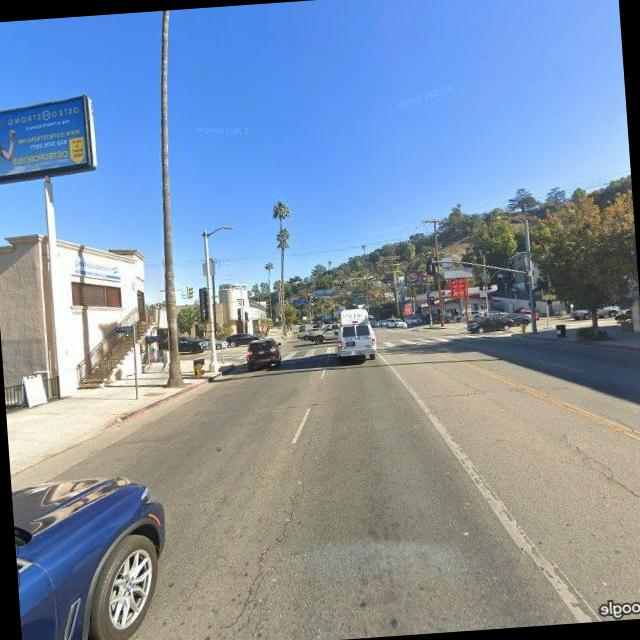pothole: (220, 480, 317, 629), (571, 434, 640, 513)
